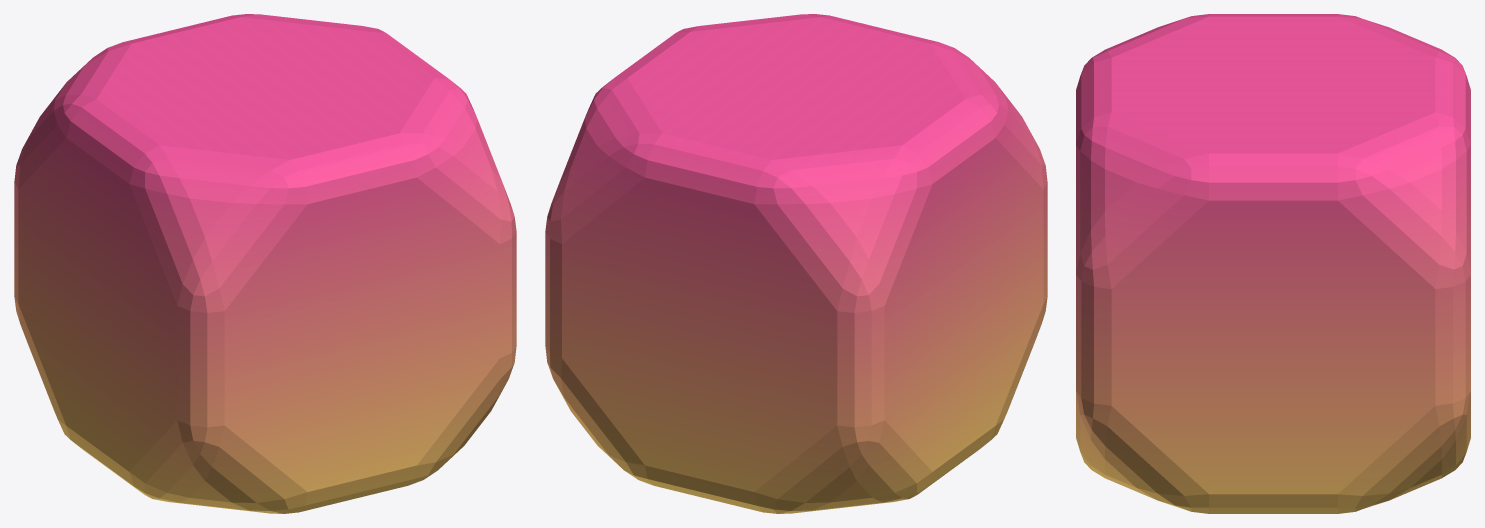
Rendered from placeholder.glb.
3 renders of one model, left to right at view 1: azimuth 30°, elevation 25°; view 2: azimuth 150°, elevation 25°; view 3: azimuth 270°, elevation 25°, orthographic.
Visible parts, largest first — view 1: Cube; view 2: Cube; view 3: Cube.
Boxes of the visible parts, left/top/right/bottom form: Cube: left=14, top=14, right=516, bottom=513; Cube: left=545, top=14, right=1047, bottom=513; Cube: left=1076, top=14, right=1470, bottom=513.
Bounding box in the file's own units: 0.5 × 0.5 × 0.5.
1 material, 1 textured.
